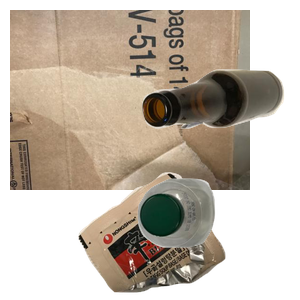cardboard: (10, 10, 250, 190)
glass: (140, 67, 300, 188)
plastic: (135, 176, 300, 300)
trash: (76, 170, 300, 300)
